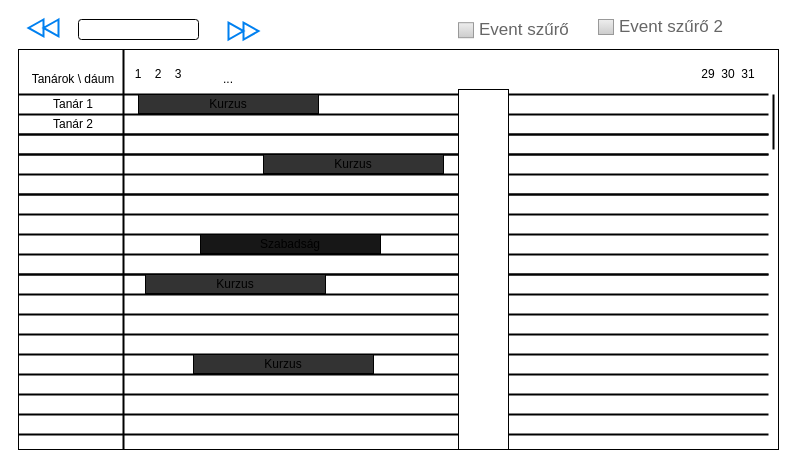
Some shapes in this 796 by 468 pixel diagram are drawn without their labels. Here are the shapes that lost their labels. From the top down, the centre of each, then its label:
the point at 138,29: Dátum szűrő
the point at 483,269: Űnnep
